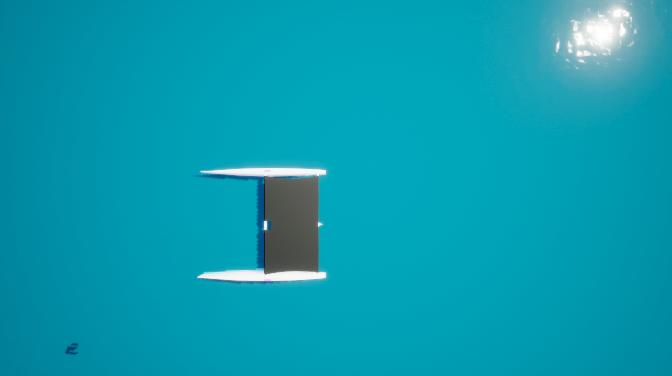boat: (195, 166, 332, 287)
drone: (64, 339, 81, 360)
land_base: (264, 177, 318, 272)
light_reflex: (541, 0, 661, 89)
